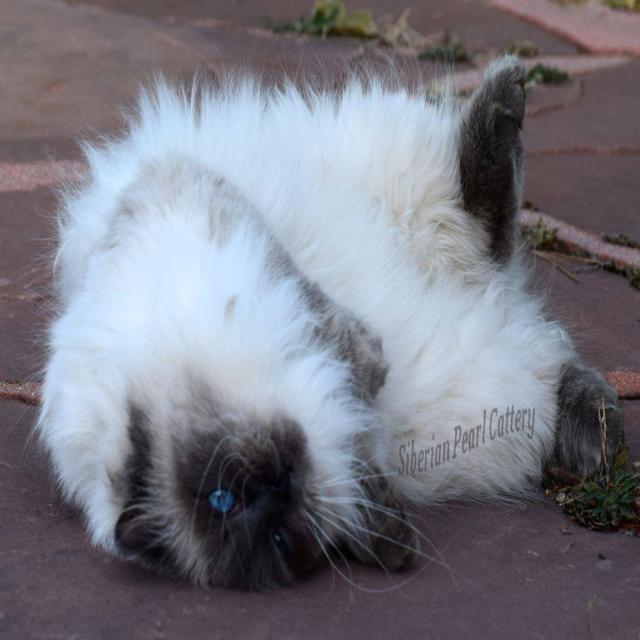Neva Masquerade: (32, 44, 630, 598)
